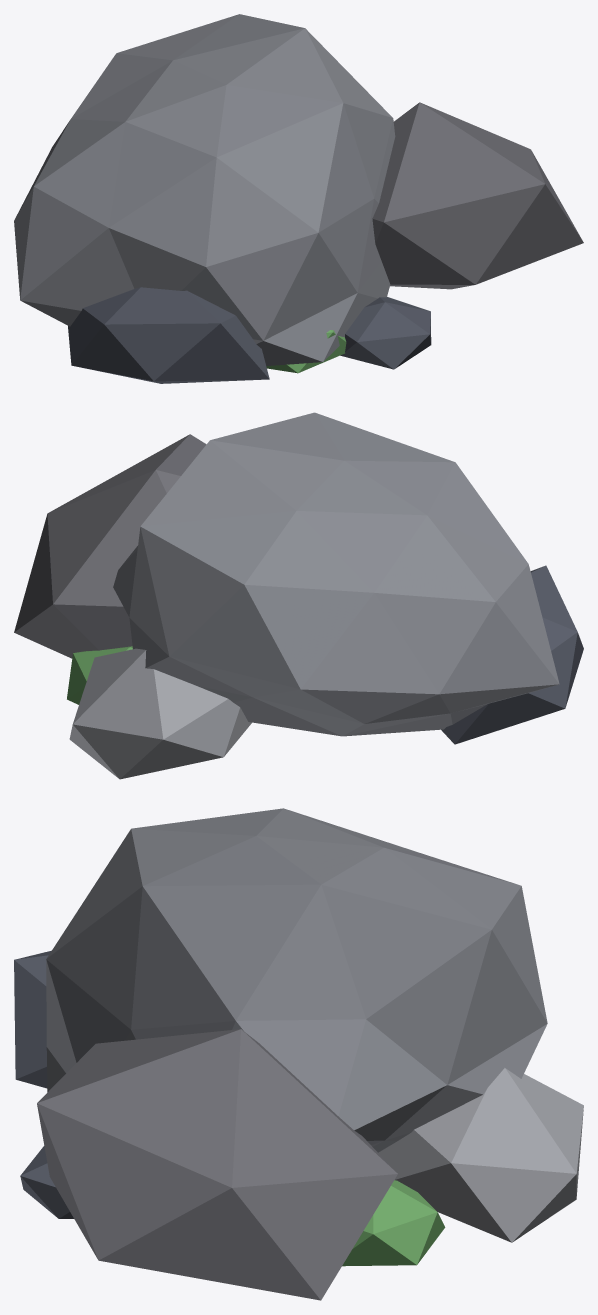
Rendered from Stylized_Prop_BoulderCluster.fbx.
3 views of the same model, one above another, from view 1: azimuth 30°, elevation 25°; view 2: azimuth 150°, elevation 25°; view 3: azimuth 270°, elevation 25° (orthographic). The views are drawn at different scales.
Parts seen in each view (by area): view 1: Stylized_Prop_BoulderCluster; view 2: Stylized_Prop_BoulderCluster; view 3: Stylized_Prop_BoulderCluster.
Part boxes in pixels (<box>): Stylized_Prop_BoulderCluster: <box>14,14,583,383</box>; Stylized_Prop_BoulderCluster: <box>14,412,583,779</box>; Stylized_Prop_BoulderCluster: <box>14,808,583,1300</box>.
Bounding box in the file's own units: 2.48 × 1.23 × 1.89.
